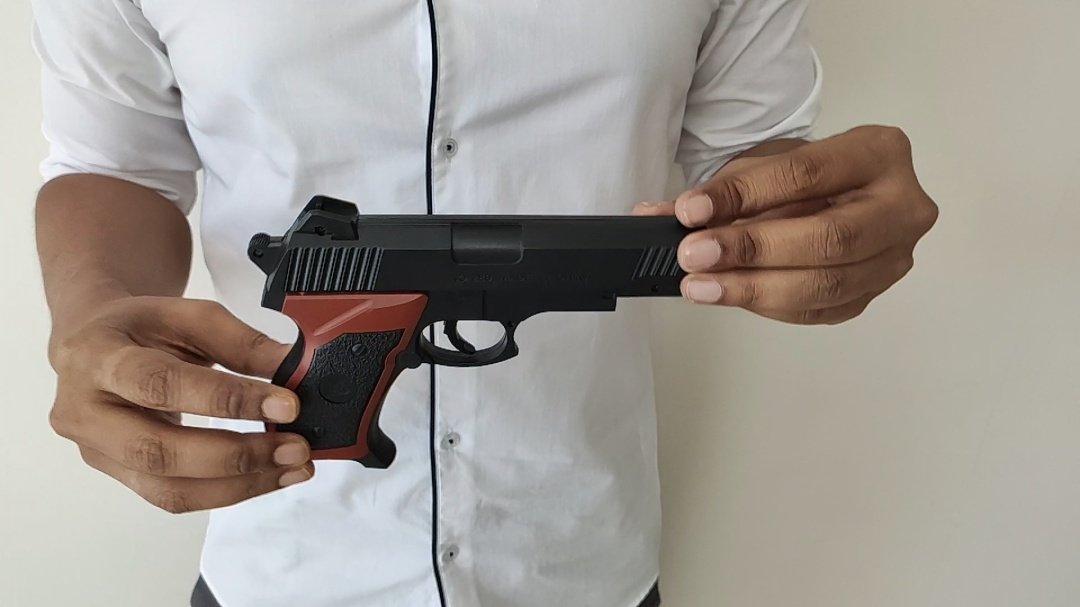gun: (248, 194, 683, 469)
